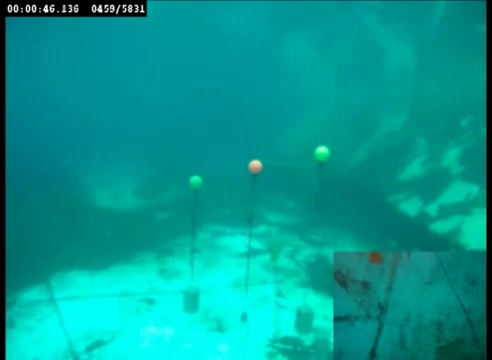buoy_red: (246, 158, 264, 177)
